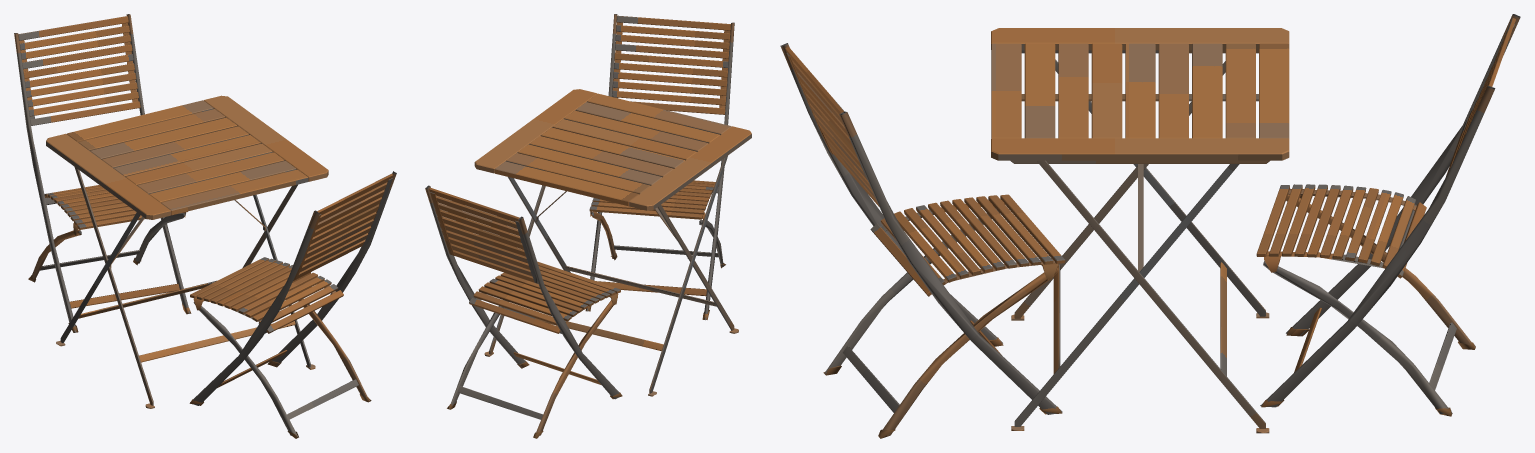
Rendered from ph_patioset.glb.
3 renders of one model, left to right at view 1: azimuth 30°, elevation 25°; view 2: azimuth 150°, elevation 25°; view 3: azimuth 270°, elevation 25°, orthographic. The views are drawn at different scales.
Parts seen in each view (by area): view 1: ph_patioset; view 2: ph_patioset; view 3: ph_patioset.
Part boxes in pixels (x1,y1,x2,y2): ph_patioset: [14, 14, 396, 438]; ph_patioset: [425, 14, 751, 438]; ph_patioset: [780, 14, 1520, 438].
Size of the model in its own units: 0.7414 by 0.8557 by 1.72.
2 materials, 2 textured.
